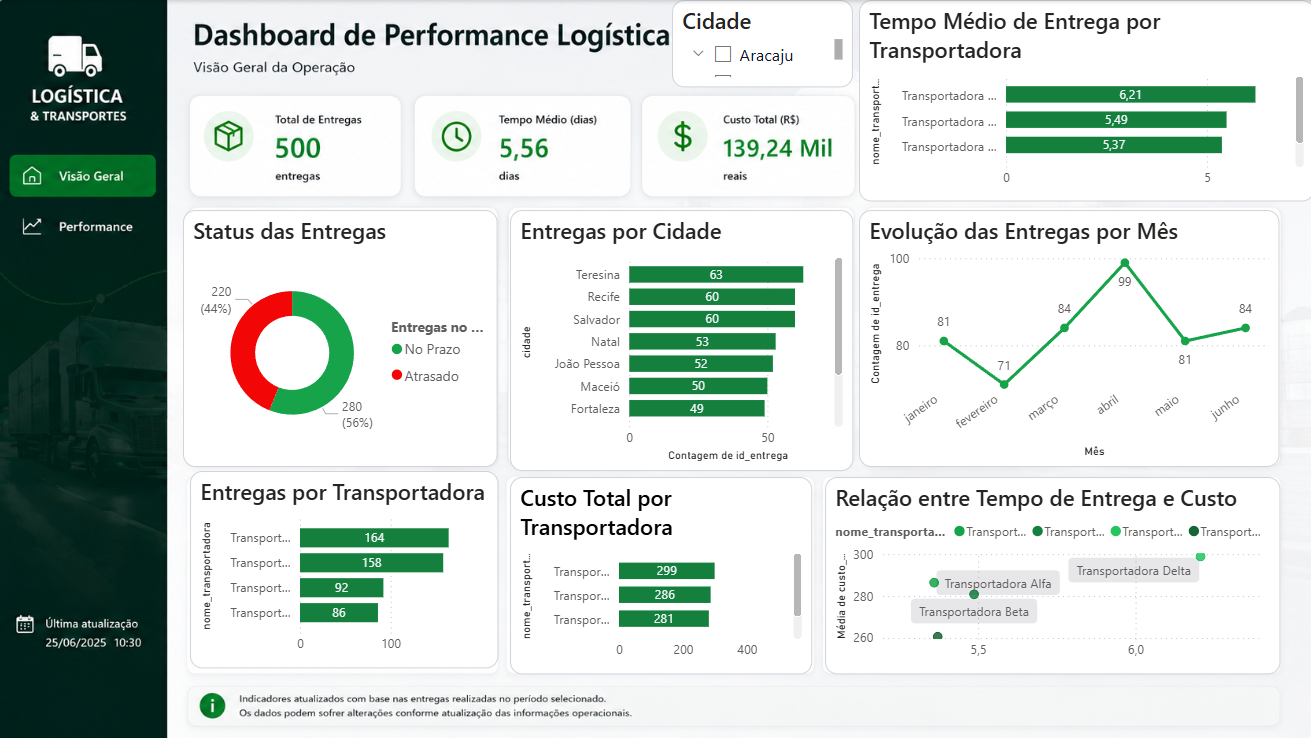

The page's visual inventory and layout, read from the dashboard file:
{"tool":"powerbi","page":{"name":"Visao geral e performance ","canvas":[1280,720],"ordinal":0},"visuals":[{"type":"cardVisual","fields":{"Data":["CountNonNull(public vw_entregas_analise.id_entrega)"]},"box":[186.7,92.4,203.3,104.1],"z":0},{"type":"cardVisual","fields":{"Data":["Avg(public vw_entregas_analise.tempo_entrega)"]},"box":[404.6,92.4,208.1,97.3],"z":1000},{"type":"cardVisual","fields":{"Data":["Sum(public vw_entregas_analise.custo_entrega)"]},"box":[624.4,92.4,207.2,97.3],"z":2000},{"type":"cardVisual","fields":{"Rows":["public vw_entregas_analise.status_entrega"]},"box":[872.5,222.7,128.4,179.9],"z":3000},{"type":"clusteredBarChart","title":"Entregas por Transportadora","fields":{"Category":["public vw_entregas_analise.nome_transportadora"],"Y":["CountNonNull(public vw_entregas_analise.id_entrega)"]},"box":[186.7,458.1,299.6,191.6],"z":4000},{"type":"clusteredBarChart","title":"Entregas por Cidade","fields":{"Category":["public clientes.cidade"],"Y":["CountNonNull(public entregas.id_entrega)"]},"box":[498,204.3,333.6,253.9],"z":5000},{"type":"donutChart","title":"Status das Entregas","fields":{"Y":["CountNonNull(public vw_entregas_analise.id_entrega)"],"Category":["public vw_entregas_analise.status_entrega"]},"box":[179.9,204.3,306.4,250],"z":6000},{"type":"lineChart","title":"Evolução das Entregas por Mês","fields":{"Category":["public vw_entregas_analise.data_pedido.Variation.Hierarquia de datas.Mês"],"Y":["CountNonNull(public vw_entregas_analise.id_entrega)"]},"box":[837.4,204.3,409.5,250],"z":7000},{"type":"scatterChart","title":"Relação entre Tempo de Entrega e Custo","fields":{"X":["Avg(public vw_entregas_analise.tempo_entrega)"],"Y":["Avg(public vw_entregas_analise.custo_entrega)"],"Series":["public vw_entregas_analise.nome_transportadora"]},"box":[804.4,464,442.6,191.6],"z":8000},{"type":"clusteredBarChart","title":"Custo Total por Transportadora","fields":{"Category":["public vw_entregas_analise.nome_transportadora"],"Y":["Avg(public vw_entregas_analise.custo_entrega)"]},"box":[498,464,293.7,191.6],"z":8001},{"type":"slicer","title":"Cidade","fields":{"Values":["public vw_entregas_analise.cidade","public vw_entregas_analise.nome_transportadora"]},"box":[655.6,0,176,84.6],"z":8002},{"type":"clusteredBarChart","title":"Tempo Médio de Entrega por Transportadora","fields":{"Category":["public vw_entregas_analise.nome_transportadora"],"Y":["Avg(public vw_entregas_analise.tempo_entrega)"]},"box":[837.4,0,442.6,196.5],"z":8003}]}

Visuals, with their boxes on the page's 1280x720 design canvas (x1, y1, x2, y2). These are canvas units, not pixel positions in the 1311x738 screenshot, which may show the page scaled, cropped or inside an application window:
cardVisual - CountNonNull(public vw_entregas_analise.id_entrega): [left=187, top=92, right=390, bottom=196]
cardVisual - Avg(public vw_entregas_analise.tempo_entrega): [left=405, top=92, right=613, bottom=190]
cardVisual - Sum(public vw_entregas_analise.custo_entrega): [left=624, top=92, right=832, bottom=190]
cardVisual - public vw_entregas_analise.status_entrega: [left=872, top=223, right=1001, bottom=403]
"Entregas por Transportadora" clusteredBarChart: [left=187, top=458, right=486, bottom=650]
"Entregas por Cidade" clusteredBarChart: [left=498, top=204, right=832, bottom=458]
"Status das Entregas" donutChart: [left=180, top=204, right=486, bottom=454]
"Evolução das Entregas por Mês" lineChart: [left=837, top=204, right=1247, bottom=454]
"Relação entre Tempo de Entrega e Custo" scatterChart: [left=804, top=464, right=1247, bottom=656]
"Custo Total por Transportadora" clusteredBarChart: [left=498, top=464, right=792, bottom=656]
"Cidade" slicer: [left=656, top=0, right=832, bottom=85]
"Tempo Médio de Entrega por Transportadora" clusteredBarChart: [left=837, top=0, right=1280, bottom=196]
